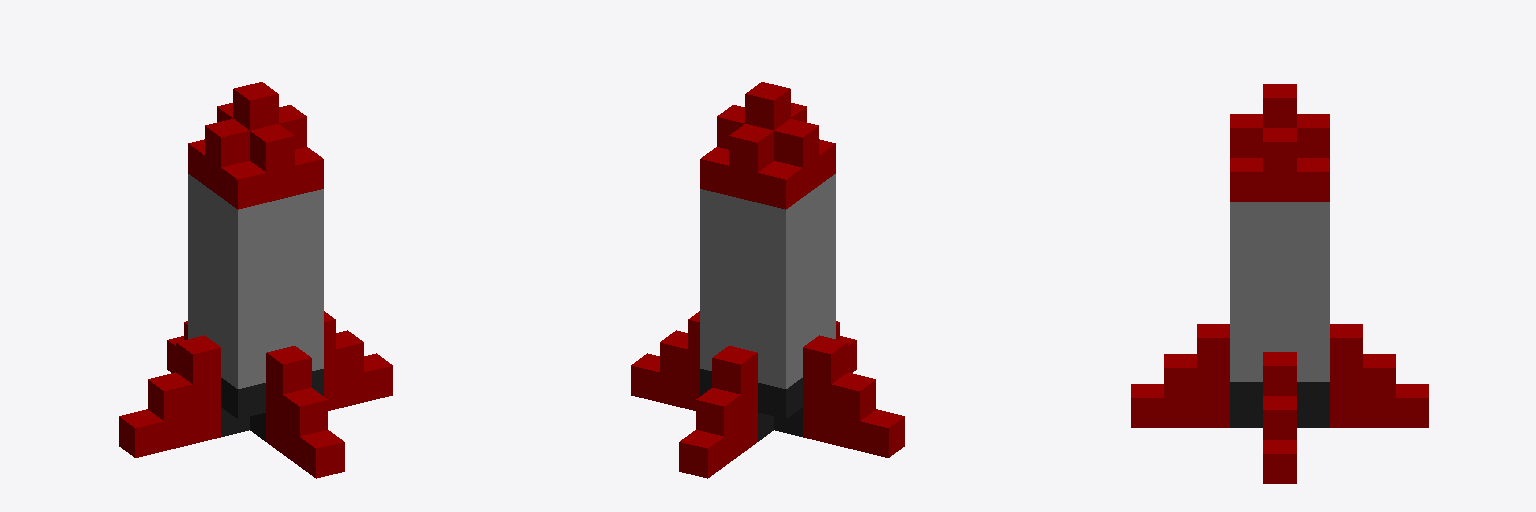
3 views of the same model, side by side, from view 1: azimuth 30°, elevation 25°; view 2: azimuth 150°, elevation 25°; view 3: azimuth 270°, elevation 25° (orthographic).
Parts seen in each view (by area): view 1: object 1; view 2: object 1; view 3: object 1.
Part boxes in pixels (x1,y1,x2,y2): object 1: (119,82,392,478); object 1: (631,82,904,478); object 1: (1131,84,1428,483).
Size of the model in its own units: 0.9 by 1.1 by 0.9.
Materials: 1 (1 with a texture image).